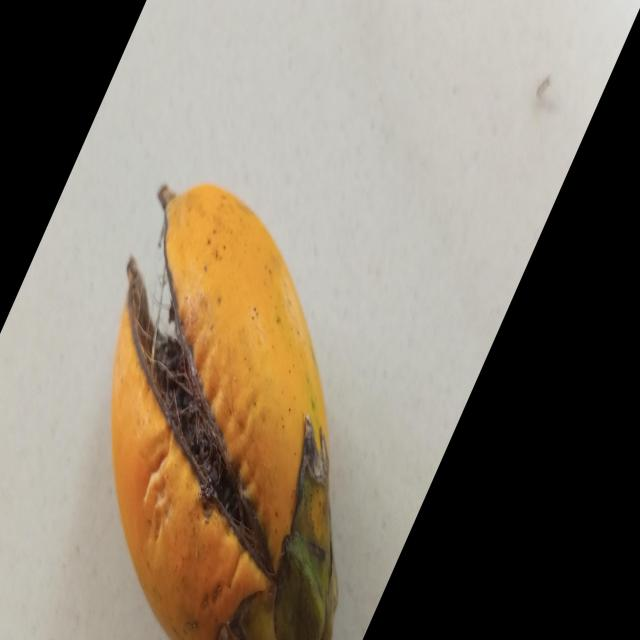damaged: (112, 185, 338, 640)
